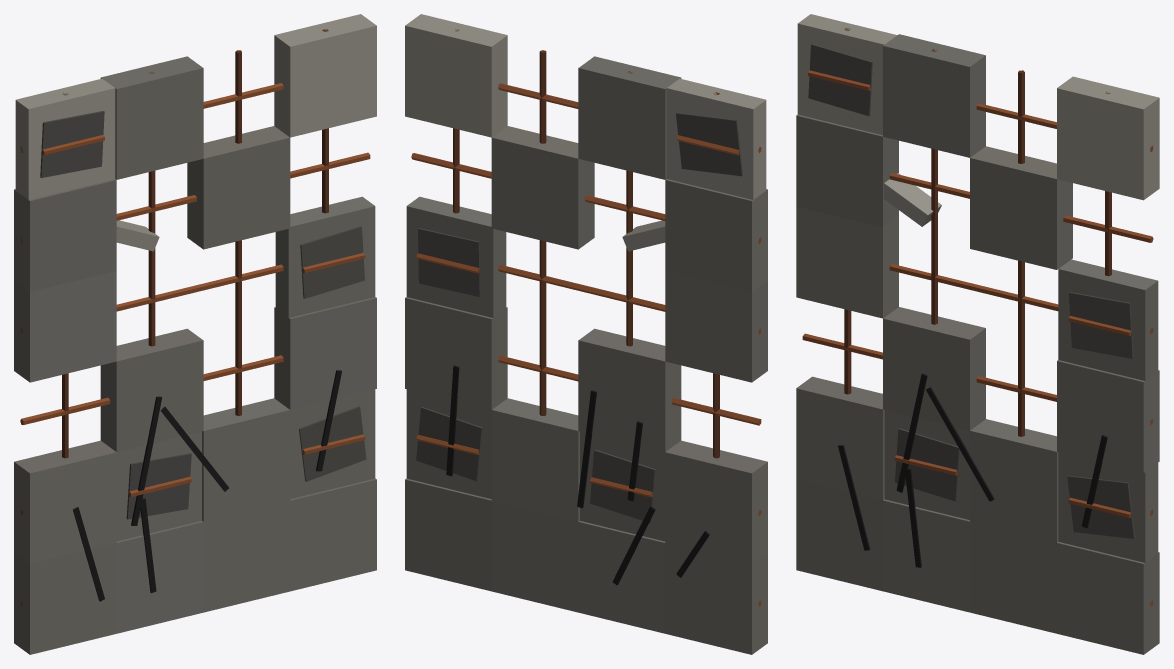
Rendered from piece_wall_concrete_critical.fbx.
The picture shows the model from 3 angles, left to right: view 1: azimuth 30°, elevation 25°; view 2: azimuth 150°, elevation 25°; view 3: azimuth 330°, elevation 25°; orthographic projection.
Visible parts, largest first — view 1: piece_wall_concrete_critical; view 2: piece_wall_concrete_critical; view 3: piece_wall_concrete_critical.
Part boxes in pixels (x1,y1,x2,y2): piece_wall_concrete_critical: (14, 14, 376, 654); piece_wall_concrete_critical: (405, 14, 767, 654); piece_wall_concrete_critical: (796, 14, 1159, 654).
Bounding box in the file's own units: 2 × 3 × 0.1889.
